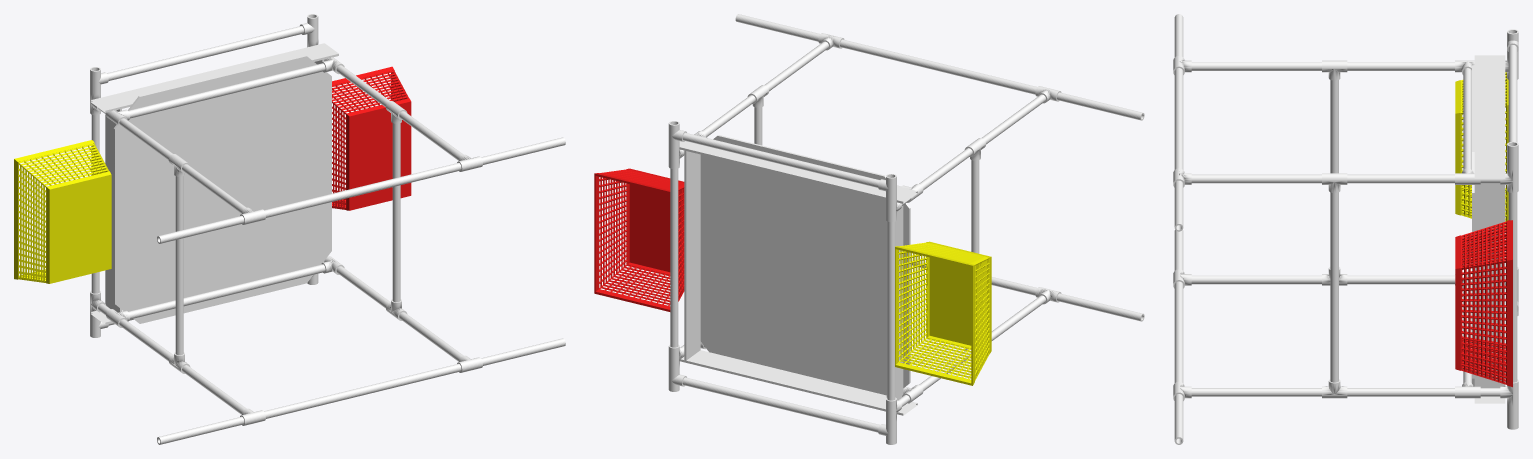
File: table.obj
3 views of the same model, side by side, from view 1: azimuth 30°, elevation 25°; view 2: azimuth 150°, elevation 25°; view 3: azimuth 270°, elevation 25° (orthographic). The views are drawn at different scales.
Parts seen in each view (by area): view 1: table; view 2: table; view 3: table.
Part boxes in pixels (<box>): table: <box>14,14,565,444</box>; table: <box>594,14,1144,444</box>; table: <box>1173,14,1518,444</box>.
Bounding box in the file's own units: 1.23 × 0.7747 × 0.8576.
1 material, 1 textured.
